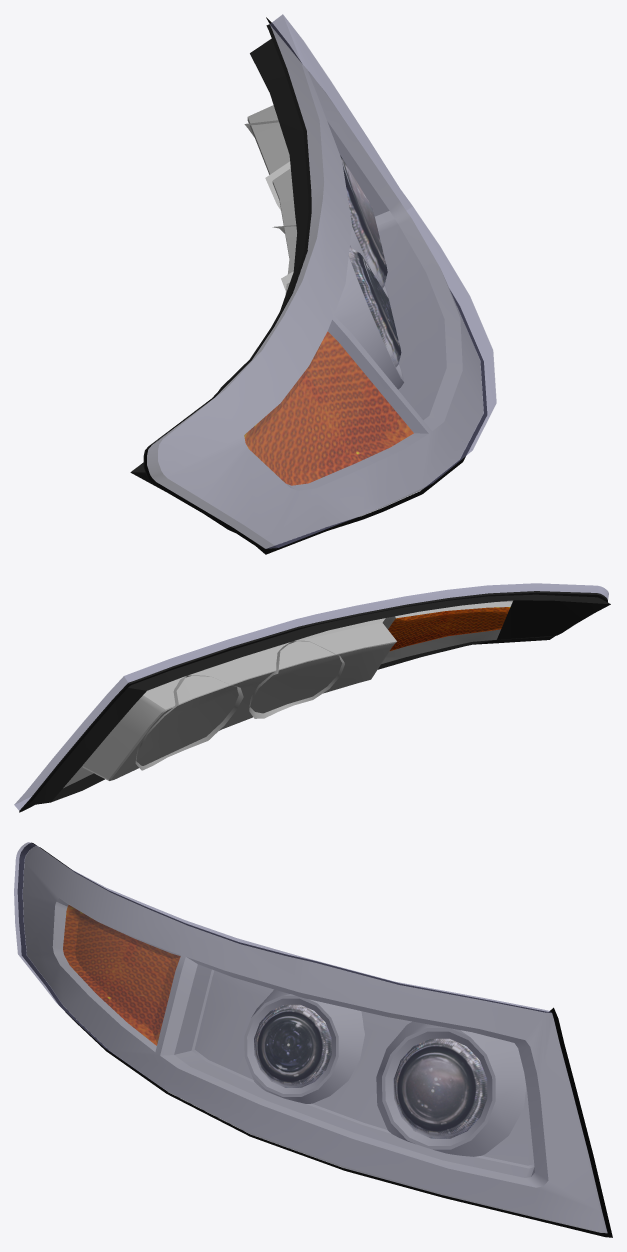
3 views of the same model, one above another, from view 1: azimuth 30°, elevation 25°; view 2: azimuth 150°, elevation 25°; view 3: azimuth 270°, elevation 25° (orthographic). The views are drawn at different scales.
Visible parts, largest first — view 1: X8163_061B_R_X8163_061B_R_6_DTaSI, X8163_061B_R_X8163_061B_R_4_DaS, X8163_061B_R_X8163_061B_R_3_N, X8163_061B_R_X8163_061B_R_5_D, X8163_061B_R_X8163_061B_R_7_D, X8163_061B_R_X8163_061B_R_2_N, X8163_061B_R_1_N_X8163_061B_R; view 2: X8163_061B_R_X8163_061B_R_4_DaS, X8163_061B_R_X8163_061B_R_5_D, X8163_061B_R_X8163_061B_R_6_DTaSI, X8163_061B_R_X8163_061B_R_3_N; view 3: X8163_061B_R_X8163_061B_R_6_DTaSI, X8163_061B_R_X8163_061B_R_4_DaS, X8163_061B_R_X8163_061B_R_3_N, X8163_061B_R_X8163_061B_R_2_N, X8163_061B_R_1_N_X8163_061B_R, X8163_061B_R_X8163_061B_R_7_D.
Part boxes in pixels (x1=…): X8163_061B_R_X8163_061B_R_6_DTaSI: x1=147, y1=14, x2=496, y2=548; X8163_061B_R_X8163_061B_R_4_DaS: x1=147, y1=25, x2=483, y2=548; X8163_061B_R_X8163_061B_R_3_N: x1=244, y1=331, x2=413, y2=485; X8163_061B_R_X8163_061B_R_5_D: x1=130, y1=24, x2=311, y2=532; X8163_061B_R_X8163_061B_R_7_D: x1=144, y1=17, x2=486, y2=554; X8163_061B_R_X8163_061B_R_2_N: x1=340, y1=155, x2=387, y2=288; X8163_061B_R_1_N_X8163_061B_R: x1=349, y1=247, x2=401, y2=366; X8163_061B_R_X8163_061B_R_4_DaS: x1=63, y1=600, x2=513, y2=788; X8163_061B_R_X8163_061B_R_5_D: x1=19, y1=591, x2=610, y2=812; X8163_061B_R_X8163_061B_R_6_DTaSI: x1=14, y1=583, x2=608, y2=810; X8163_061B_R_X8163_061B_R_3_N: x1=388, y1=607, x2=510, y2=651; X8163_061B_R_X8163_061B_R_6_DTaSI: x1=14, y1=842, x2=607, y2=1232; X8163_061B_R_X8163_061B_R_4_DaS: x1=23, y1=846, x2=607, y2=1233; X8163_061B_R_X8163_061B_R_3_N: x1=63, y1=905, x2=180, y2=1045; X8163_061B_R_X8163_061B_R_2_N: x1=393, y1=1038, x2=487, y2=1138; X8163_061B_R_1_N_X8163_061B_R: x1=254, y1=1004, x2=331, y2=1087; X8163_061B_R_X8163_061B_R_7_D: x1=18, y1=842, x2=612, y2=1237.
Size of the model in its own units: 39.37 by 14.97 by 44.12.
